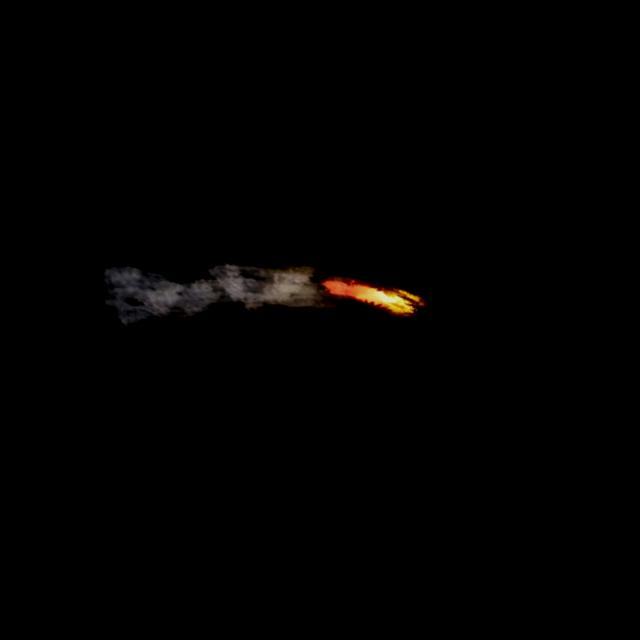fire: (318, 262, 422, 322)
smoke: (87, 210, 336, 378)
